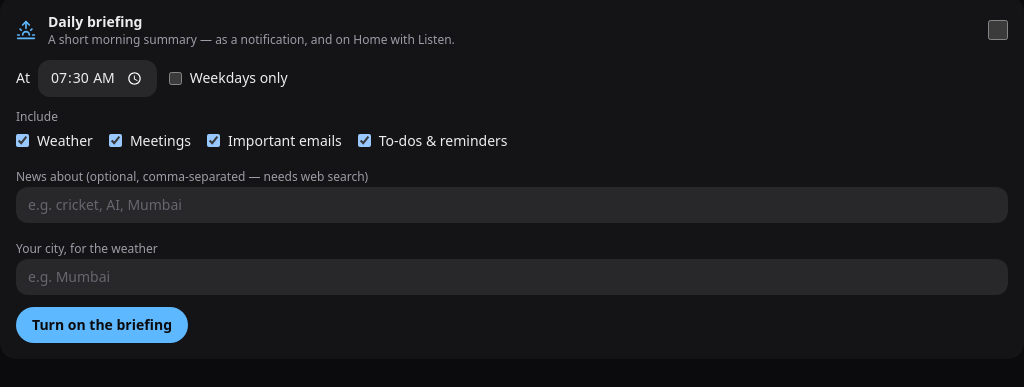
Test: briefing › turns on with the chosen time, topics and city
Type "cricket, AI" into the field with placeholder "e.g. cricket, AI, Mumbai". click: (512, 205)
box: [16,187,1008,223]
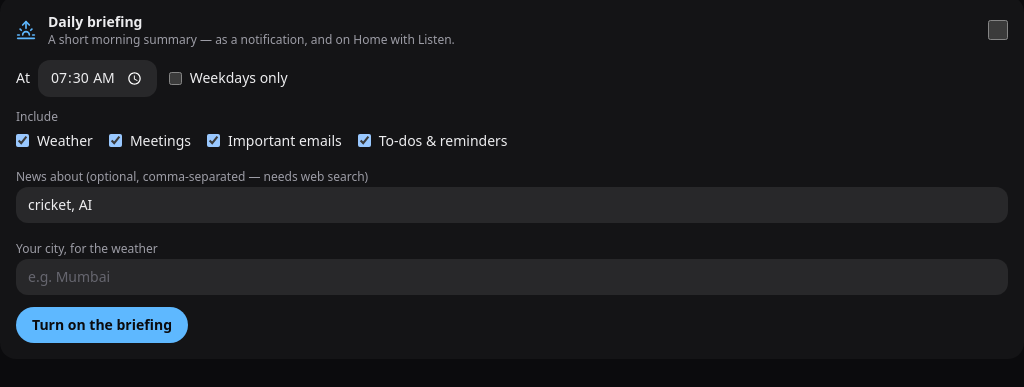
Type "Mumbai" into the field with placeholder "e.g. Mumbai". click: (512, 277)
box: [16,259,1008,295]
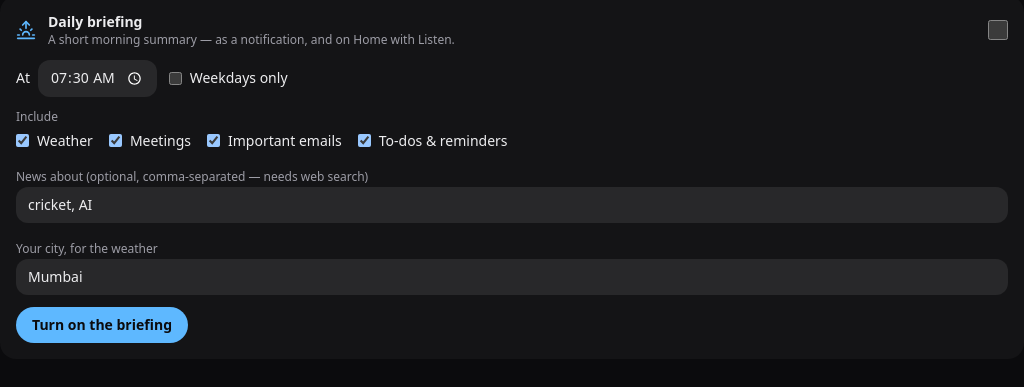
Click the checkbox labelled "Important emails". click: (214, 141)
box: [207,134,220,147]
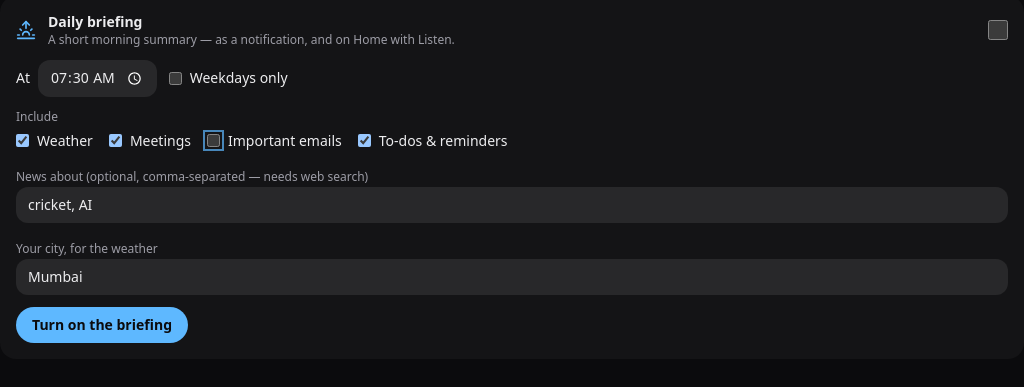
Click the button "Turn on the briefing". click: (102, 325)
box: [16,307,188,343]
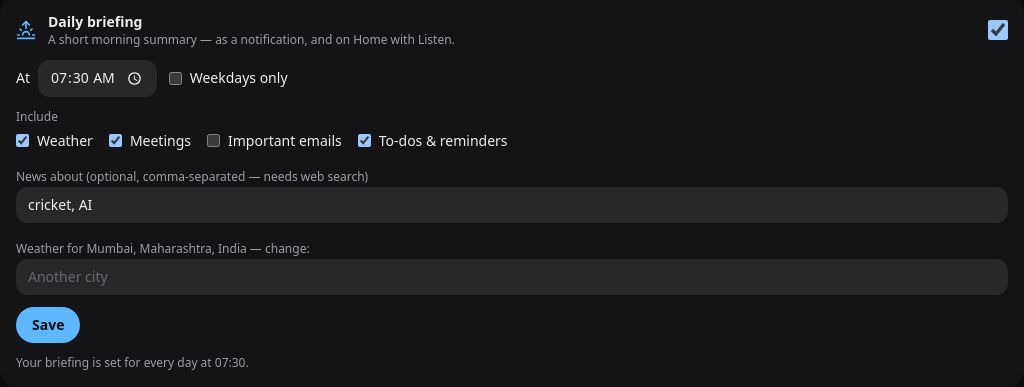
Check: the text "Your briefing is set for every day at 07:30." is shown, box [16,354,249,371]
Check: the text "Weather for Mumbai, Maharashtra, India — change:" is shown, box [16,240,310,257]
